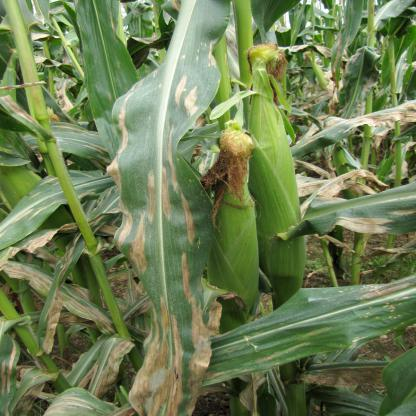corn leaf blight: (109, 4, 220, 416)
